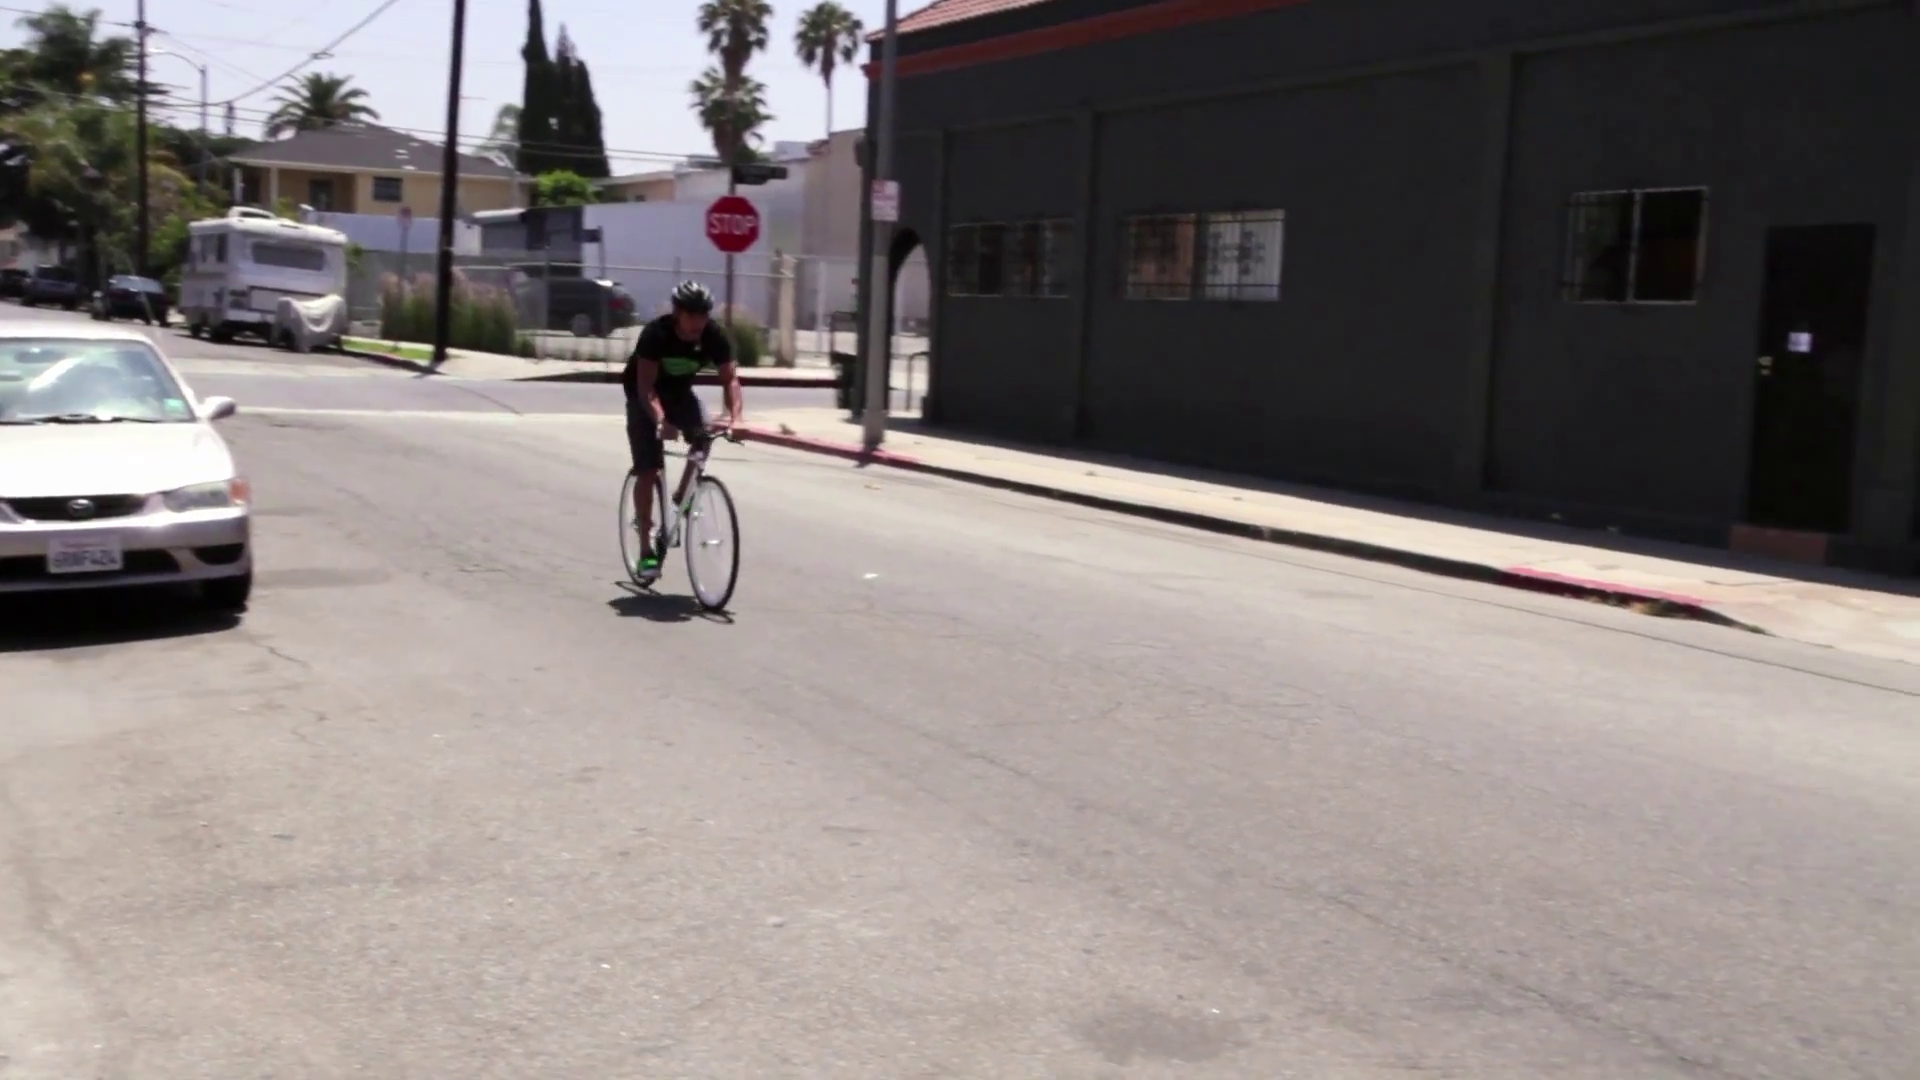person: (622, 281, 743, 580)
